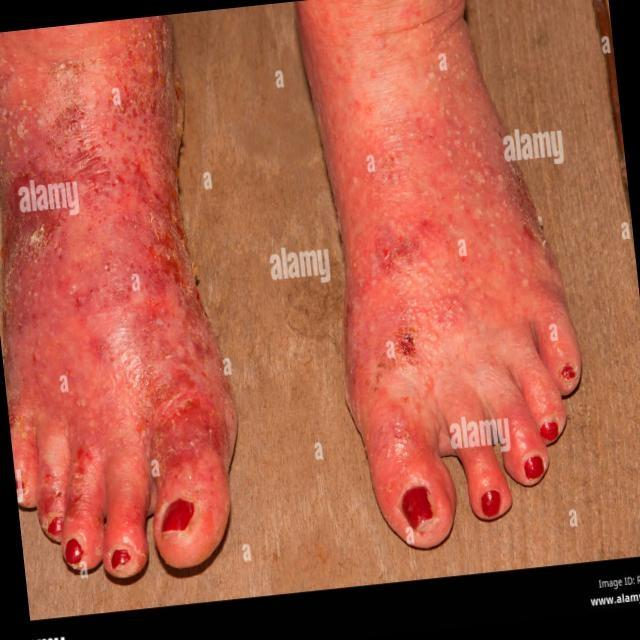Eczema: (2, 50, 247, 509), (364, 48, 576, 428)
